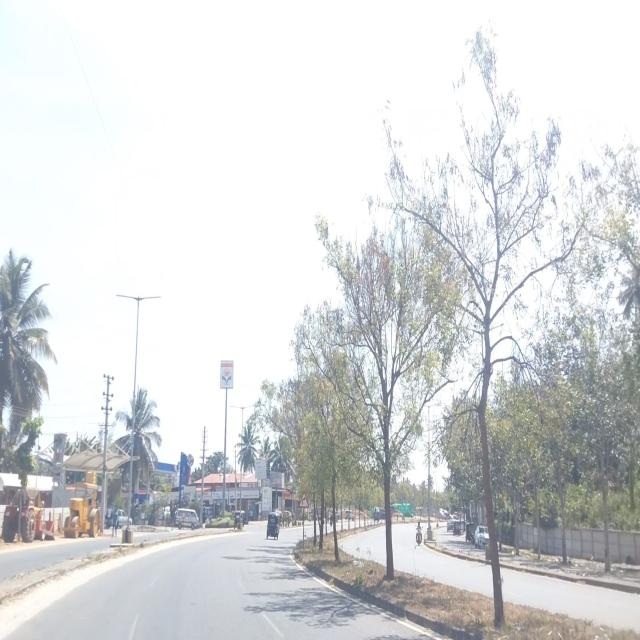bien_cam: (299, 491, 309, 509)
